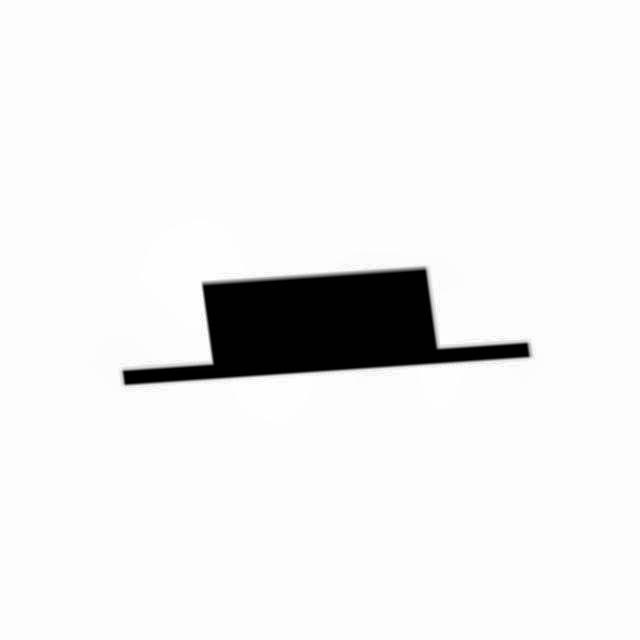Half-rest: (106, 260, 544, 396)
